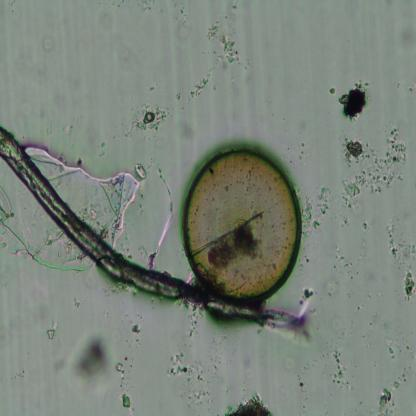Background material: (39, 144, 142, 240), (337, 124, 407, 209), (187, 20, 240, 104), (146, 164, 176, 270), (67, 327, 112, 391), (115, 322, 141, 414), (166, 350, 208, 404), (375, 320, 415, 376), (278, 352, 326, 397), (384, 235, 416, 300), (122, 99, 171, 138), (340, 79, 372, 121), (222, 390, 274, 415), (304, 188, 330, 231), (386, 23, 416, 52), (330, 344, 349, 388), (337, 244, 358, 282), (169, 3, 189, 32), (330, 316, 352, 342), (377, 386, 397, 414), (320, 275, 344, 298), (11, 363, 34, 381), (225, 4, 243, 23), (50, 356, 69, 374), (45, 320, 59, 339), (69, 298, 82, 314), (44, 38, 54, 53)
Cellulose filter fibre: (0, 127, 314, 342)
Diatom: (180, 144, 302, 303)
